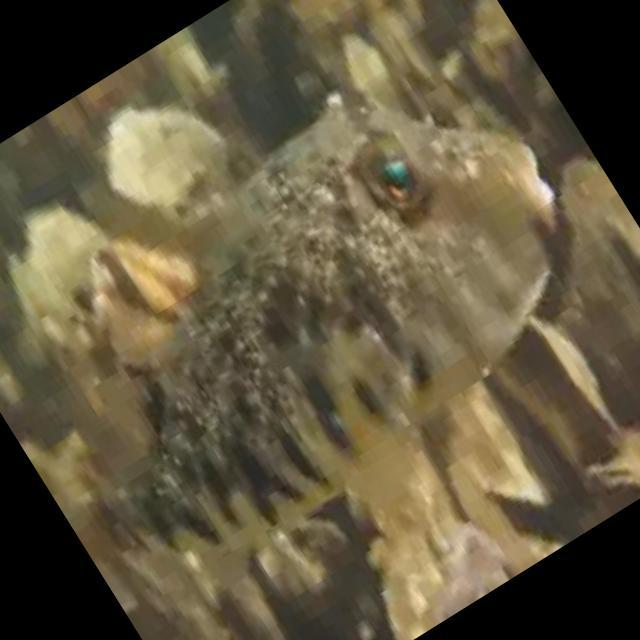Oyster- Indeterminate: (429, 370, 581, 522), (558, 156, 640, 421), (363, 506, 515, 640), (98, 99, 245, 225), (0, 192, 115, 335), (0, 251, 73, 371)
Oyster-Closed: (335, 28, 426, 133)
Oyster-Open: (67, 222, 207, 369)
